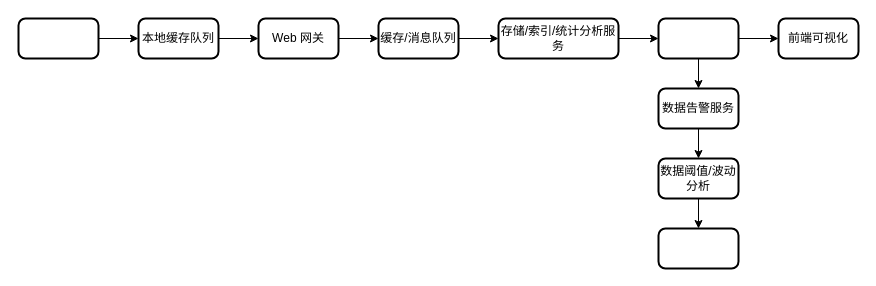
Image size: 876x286. Some labels were removed from this diagram. The shapes that lost their labels are listed below. From the top down, each one's centre as x and y in pixels, then its label:
point (58, 38): 数据源采集
point (698, 38): 数据统计分析服务
point (698, 248): Email/IM 告警
